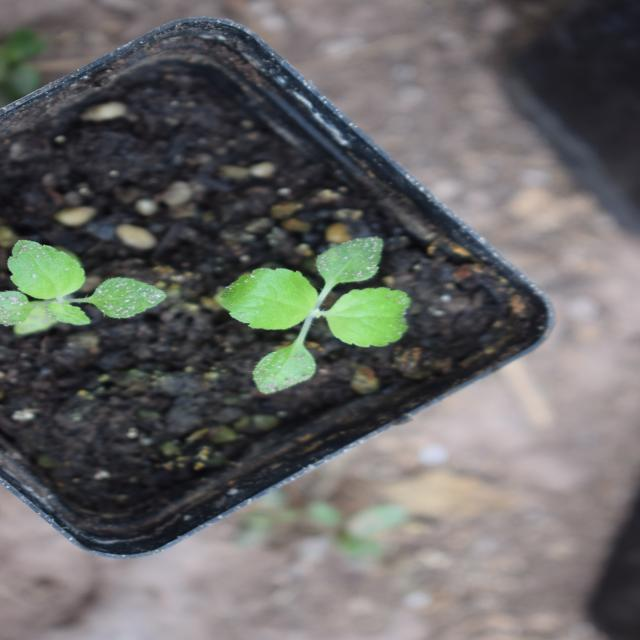billygoat_weed: (241, 222, 390, 426), (236, 482, 336, 636)
